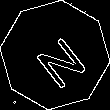N_NW: (24, 23, 86, 87)
